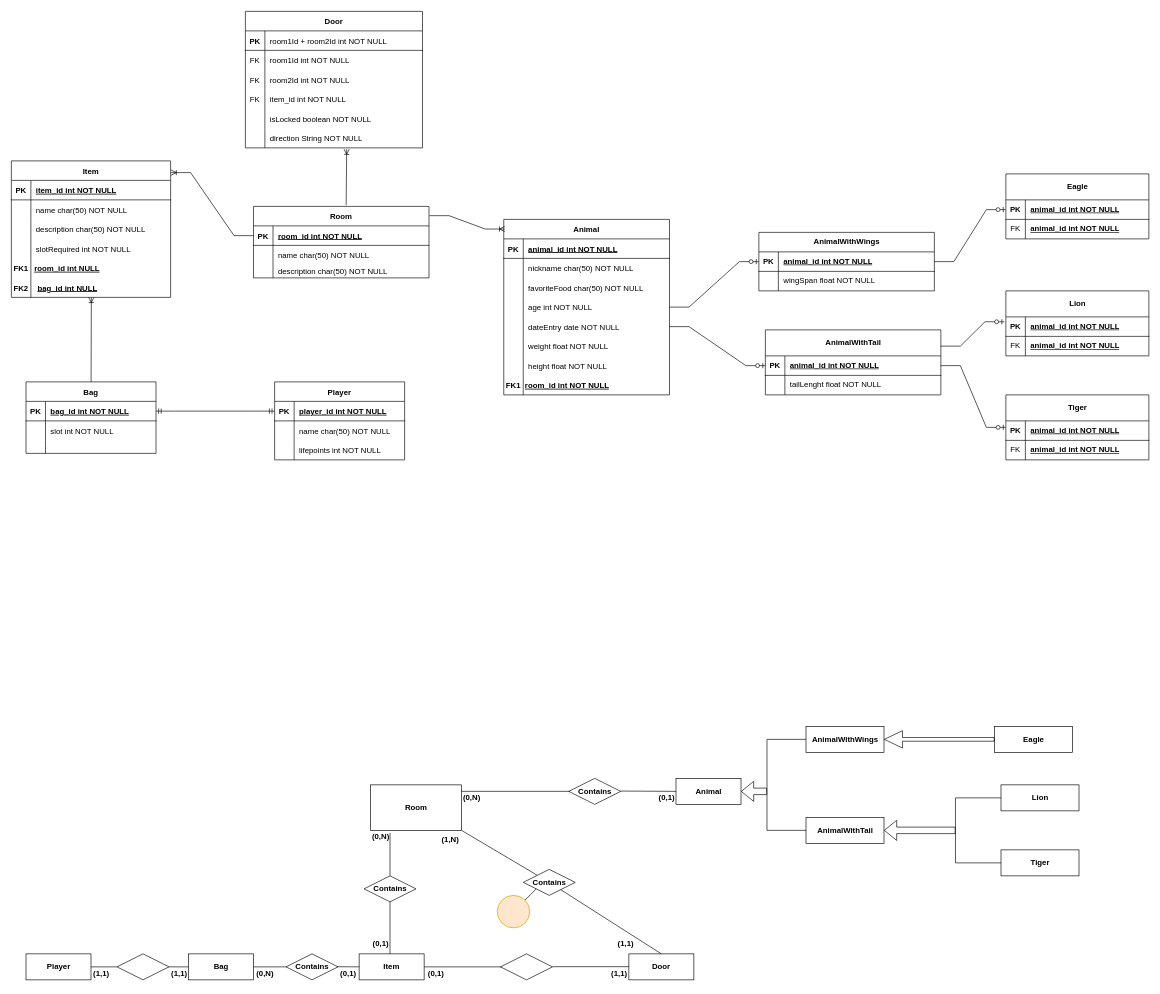
The diagram is 1160 pixels wide and 994 high, and some of its shapes have lost their labels. Each missing label, with the centre of its shape:
"Direction" goes at point (513, 911).
"Owns" goes at point (142, 966).
"Unlocks" goes at point (526, 966).
